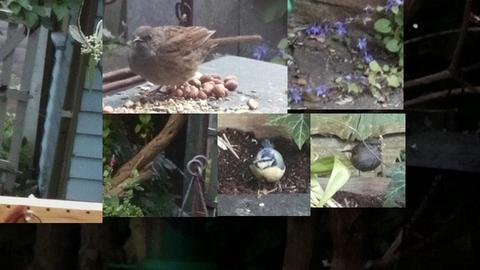blue tit: (250, 138, 286, 194)
dunnock: (128, 25, 262, 102)
sparrow: (341, 138, 380, 176)
